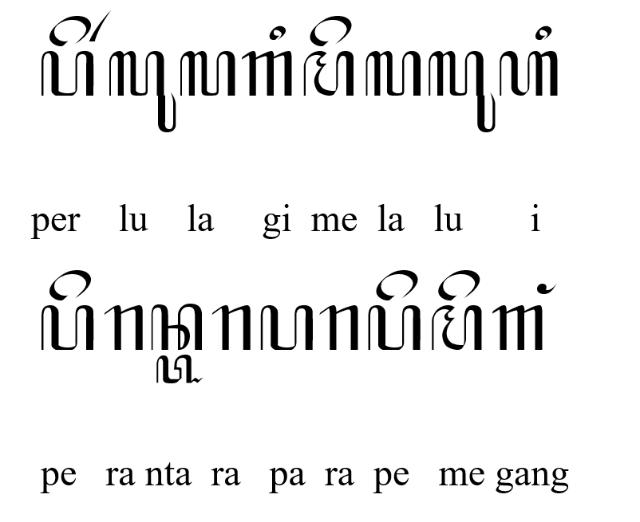_r1: (90, 8, 112, 42)
_t: (156, 355, 204, 385)
e: (375, 269, 419, 302), (308, 15, 352, 47), (50, 14, 92, 46), (50, 270, 92, 302), (438, 270, 480, 301)
g: (492, 304, 544, 352), (241, 50, 293, 96)
h: (498, 51, 560, 98)
i: (269, 24, 287, 40), (536, 24, 552, 40)
l: (364, 51, 422, 98), (180, 50, 237, 96)
lu: (428, 49, 497, 133), (108, 51, 176, 133)
m: (302, 50, 356, 96), (431, 303, 483, 350)
n: (150, 303, 202, 351)
ng: (536, 282, 558, 296)
p: (366, 304, 422, 352), (41, 50, 94, 98), (260, 303, 314, 350), (40, 305, 94, 351)
r: (211, 304, 251, 352), (104, 305, 144, 351), (319, 305, 359, 351)
